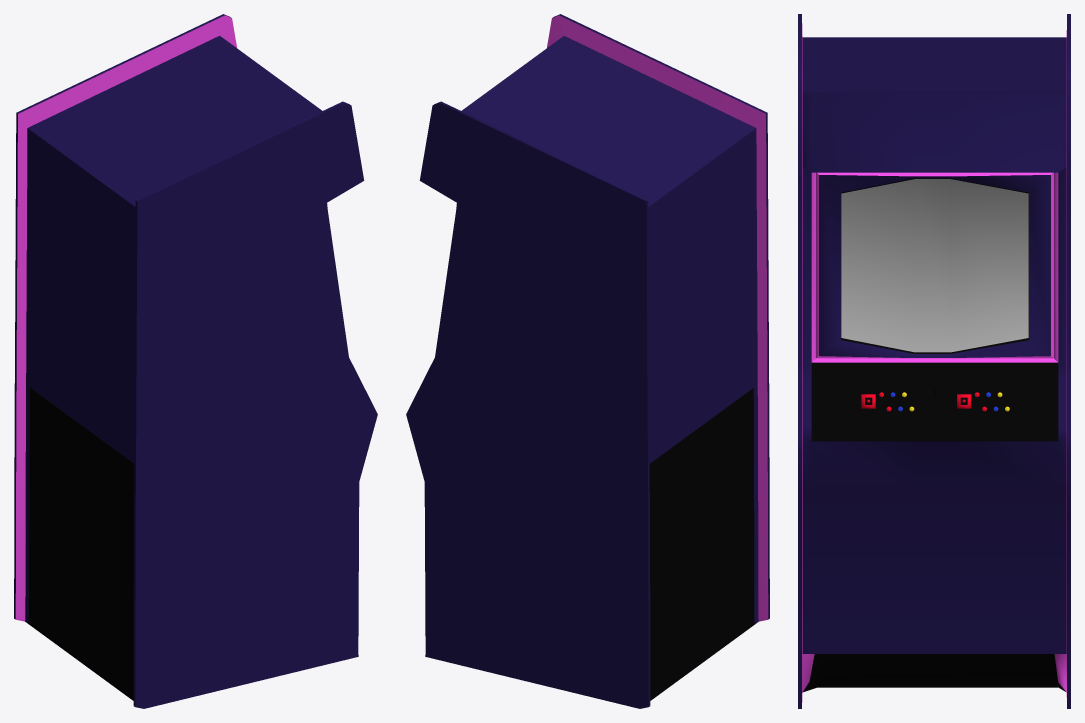
File: Automat2.fbx
3 views of the same model, side by side, from view 1: azimuth 30°, elevation 25°; view 2: azimuth 150°, elevation 25°; view 3: azimuth 270°, elevation 25° (orthographic). The views are drawn at different scales.
Parts seen in each view (by area): view 1: Automat; view 2: Automat; view 3: Automat.
Boxes of the visible parts, <box> form: Automat: <box>14,14,377,708</box>; Automat: <box>406,14,769,708</box>; Automat: <box>798,14,1070,708</box>.
Size of the model in its own units: 91.18 by 200 by 78.82.
